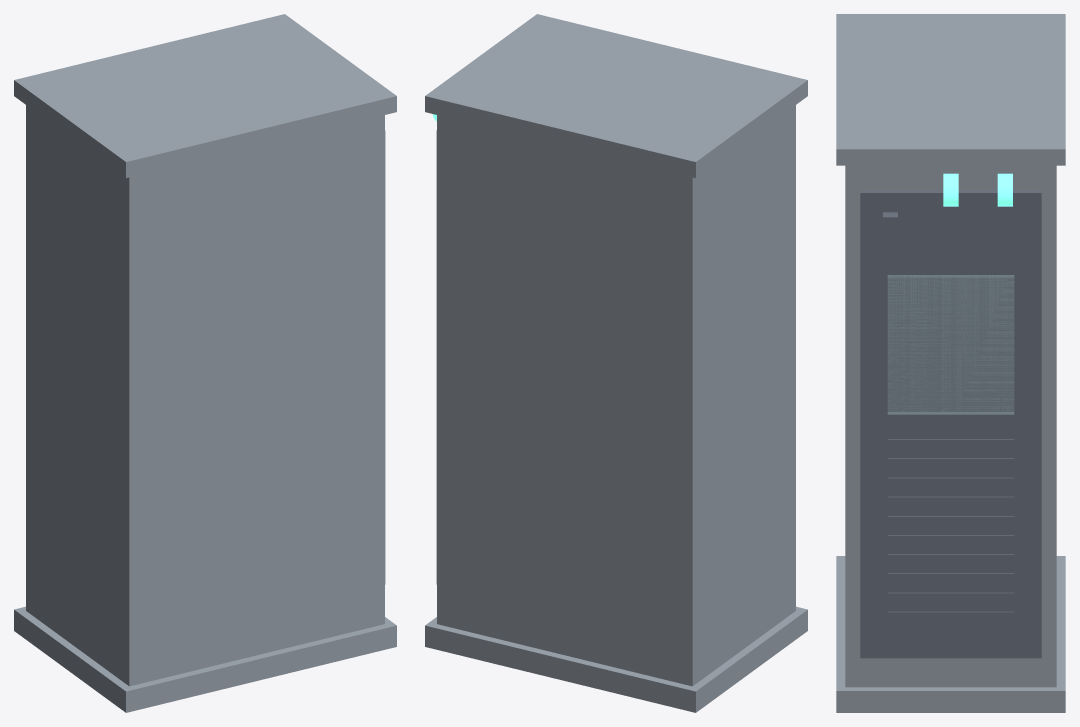
Rendered from cabinet.glb.
3 views of the same model, side by side, from view 1: azimuth 30°, elevation 25°; view 2: azimuth 150°, elevation 25°; view 3: azimuth 270°, elevation 25° (orthographic). The views are drawn at different scales.
Parts seen in each view (by area): view 1: Body; view 2: Body; view 3: Door, Body, Window, Vent, StatusLamp.
Boxes of the visible parts, x1,y1,x2,y2 form: Body: (14,14,396,712); Body: (425,14,807,712); Door: (860,190,1041,658); Body: (836,14,1065,712); Window: (888,275,1013,414); Vent: (887,439,1014,623); StatusLamp: (943,173,1012,206).
Size of the model in its own units: 1.13 by 2.06 by 0.76.
